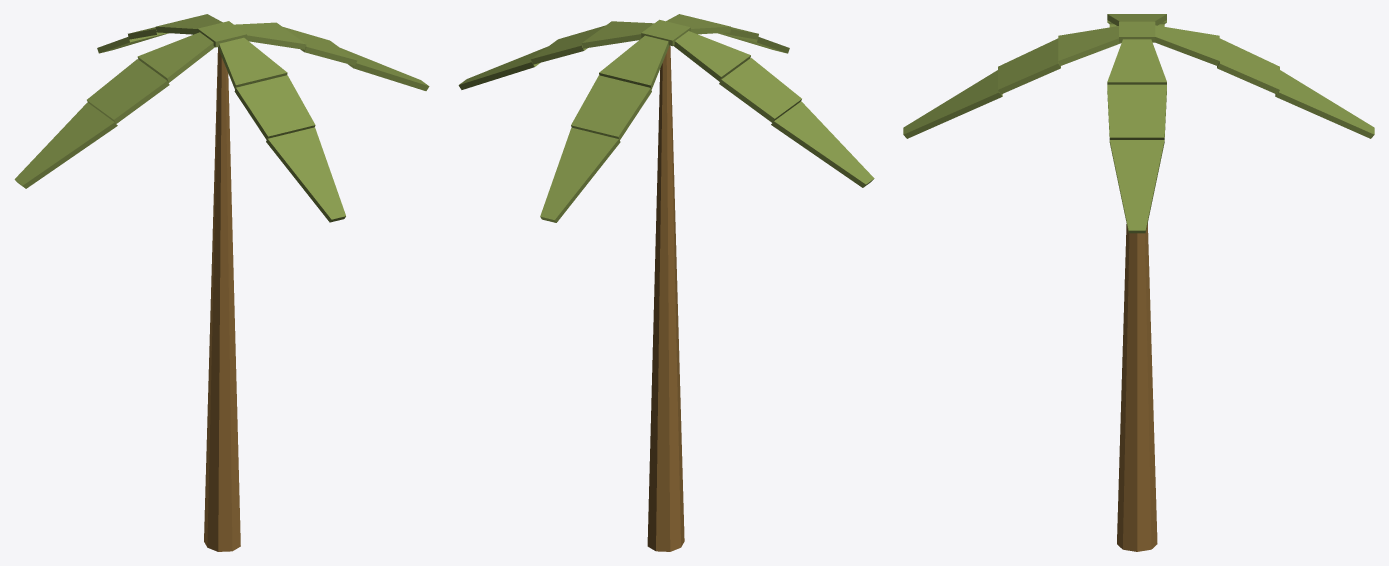
Rendered from Tree_2.FBX.
The picture shows the model from 3 angles, left to right: view 1: azimuth 30°, elevation 25°; view 2: azimuth 150°, elevation 25°; view 3: azimuth 270°, elevation 25°; orthographic projection.
Parts seen in each view (by area): view 1: Tree_2; view 2: Tree_2; view 3: Tree_2.
Boxes of the visible parts, x1,y1,x2,y2 form: Tree_2: (14,14,429,551); Tree_2: (458,14,874,551); Tree_2: (903,14,1374,551).
Bounding box in the file's own units: 3.39 × 4.09 × 3.39.
Materials: 1 (1 with a texture image).
